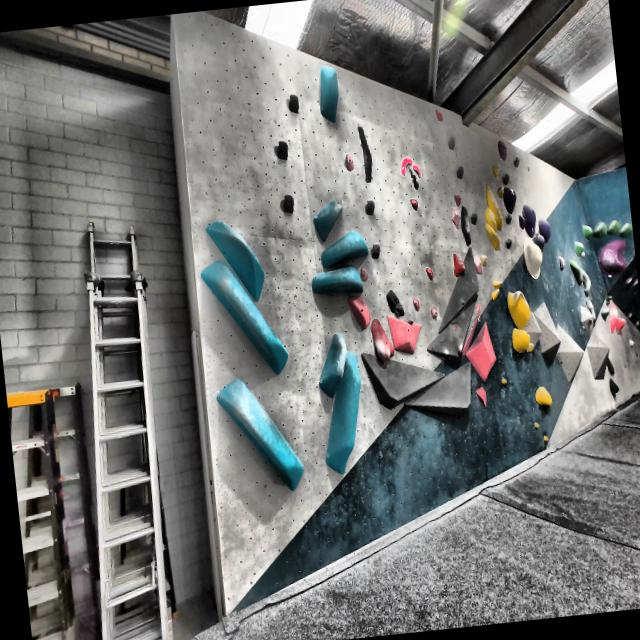Hold: (211, 379, 314, 499), (200, 251, 294, 381), (314, 350, 376, 476), (205, 216, 272, 302), (312, 330, 351, 400), (460, 317, 500, 381), (317, 228, 374, 268), (312, 61, 346, 122), (309, 264, 365, 300), (386, 316, 426, 366), (310, 198, 350, 246), (479, 180, 506, 250), (364, 315, 400, 366), (354, 121, 380, 186), (592, 240, 630, 278), (518, 233, 548, 280), (505, 286, 537, 327), (570, 256, 598, 296), (345, 294, 373, 330), (379, 282, 406, 318), (516, 202, 538, 239), (608, 302, 628, 336), (511, 327, 534, 356), (535, 212, 557, 240), (500, 184, 520, 214), (531, 383, 555, 408), (448, 252, 467, 280), (472, 384, 492, 408), (605, 216, 623, 240), (396, 153, 412, 176), (590, 220, 608, 240), (407, 192, 423, 214), (488, 277, 503, 300), (570, 239, 589, 257), (605, 374, 622, 394), (493, 136, 509, 157), (580, 222, 594, 242), (342, 151, 355, 172), (410, 163, 425, 181), (490, 161, 504, 180), (422, 264, 435, 282), (411, 295, 423, 313), (622, 216, 632, 236), (429, 306, 440, 322), (432, 106, 443, 122), (601, 302, 611, 318)
